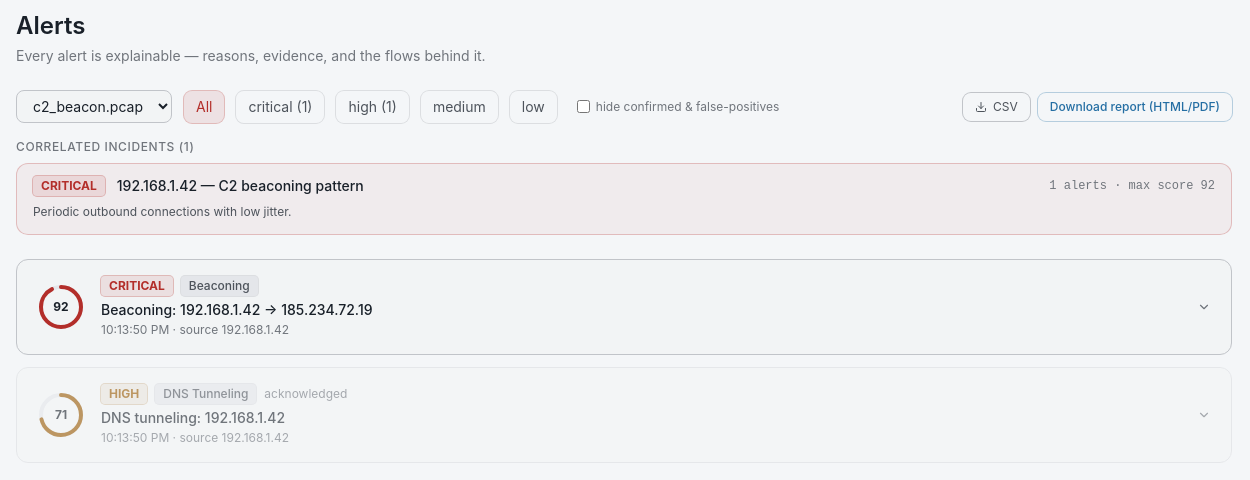
Scenario: AlertsPage › hides confirmed/false-positive alerts when the checkbox is on
Expected: the text "DNS tunneling: 192.168.1.42" is shown, [101,408,285,426]
Click the checkbox labelled "hide confirmed & false-positives" at (583, 106), box [577,100,590,113]
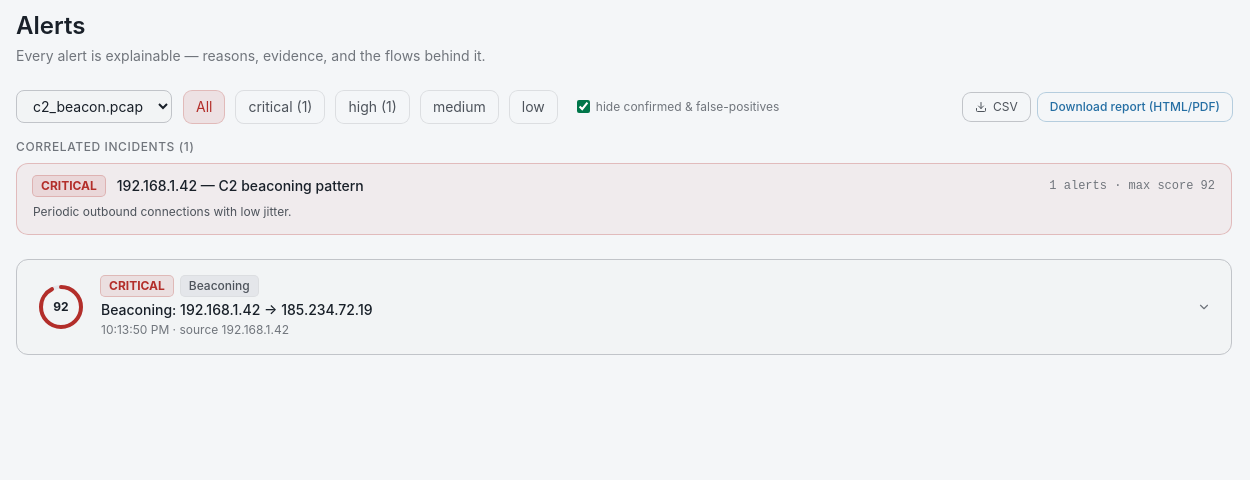
Expected: the text "Beaconing: 192.168.1.42 → 185.234.72.19" is shown, [101,300,372,318]
Now the button "DNS tunneling: 192.168.1.42" is gone
